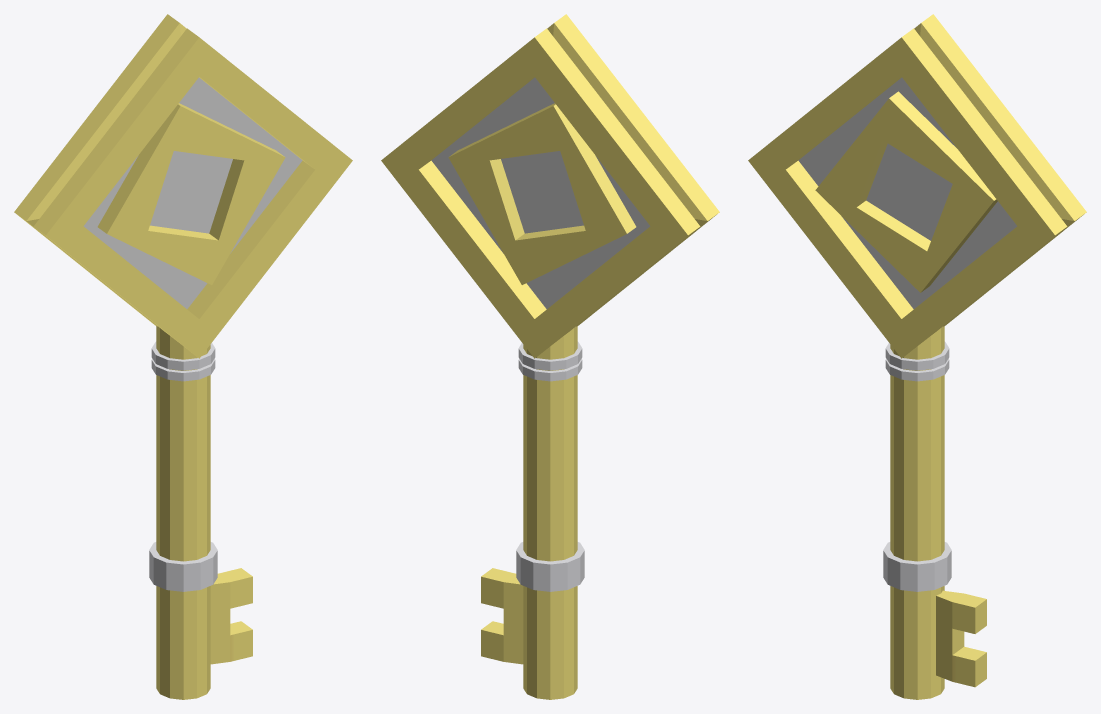
Rendered from TreasureKey.fbx.
The picture shows the model from 3 angles, left to right: view 1: azimuth 30°, elevation 25°; view 2: azimuth 150°, elevation 25°; view 3: azimuth 330°, elevation 25°; orthographic projection.
Visible parts, largest first — view 1: Mesh; view 2: Mesh; view 3: Mesh.
Boxes of the visible parts, x1=… form: Mesh: x1=14, y1=14, x2=352, y2=699; Mesh: x1=381, y1=14, x2=719, y2=699; Mesh: x1=748, y1=14, x2=1086, y2=699.
Bounding box in the file's own units: 0.562 × 1.16 × 0.1087.
